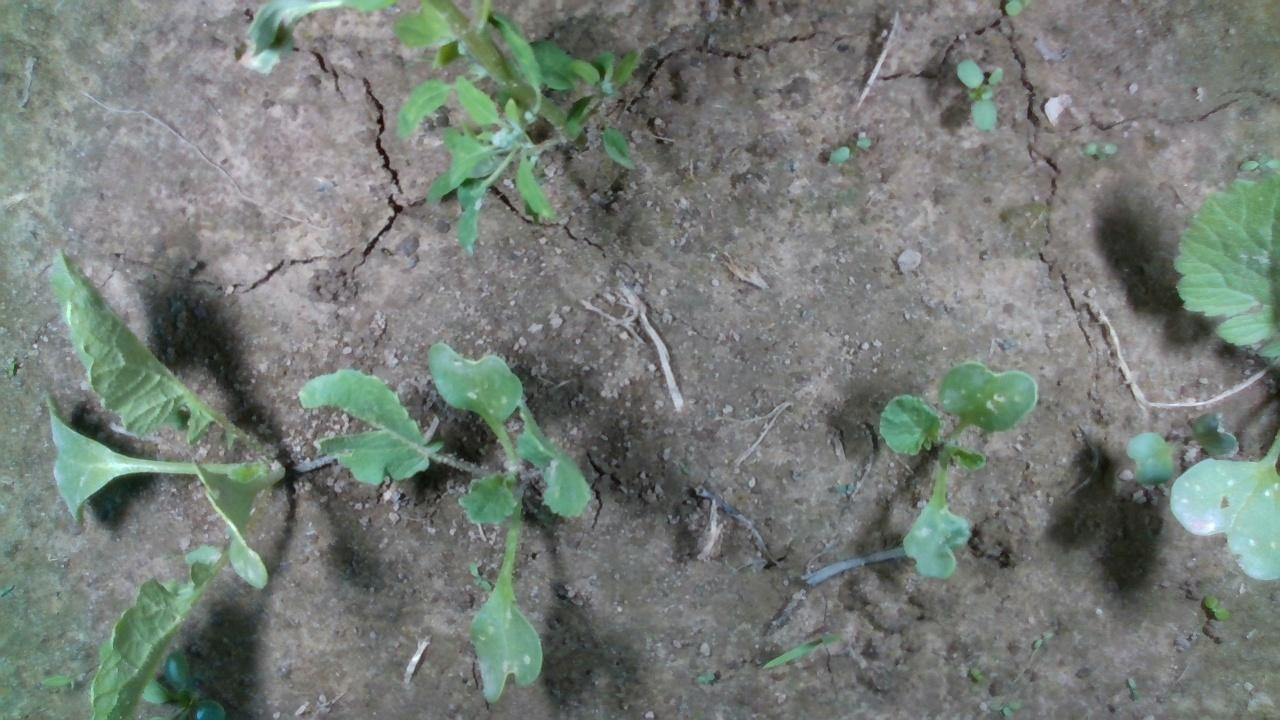weed: (1200, 592, 1230, 622)
